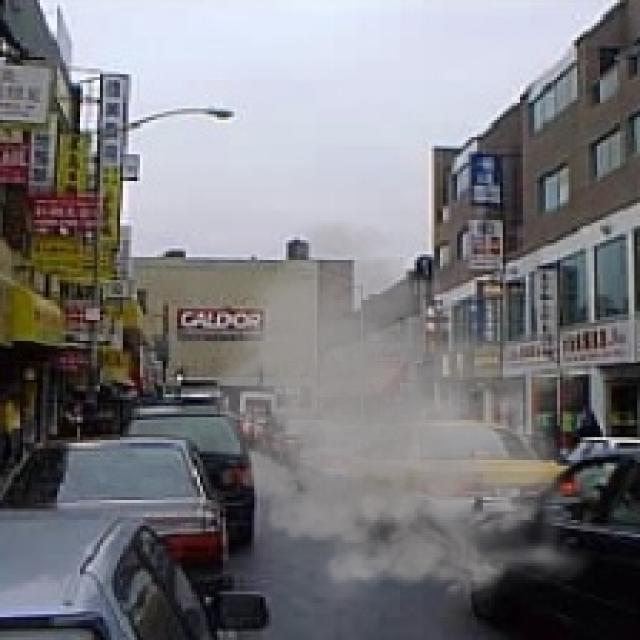Smoke: (188, 206, 603, 614)
